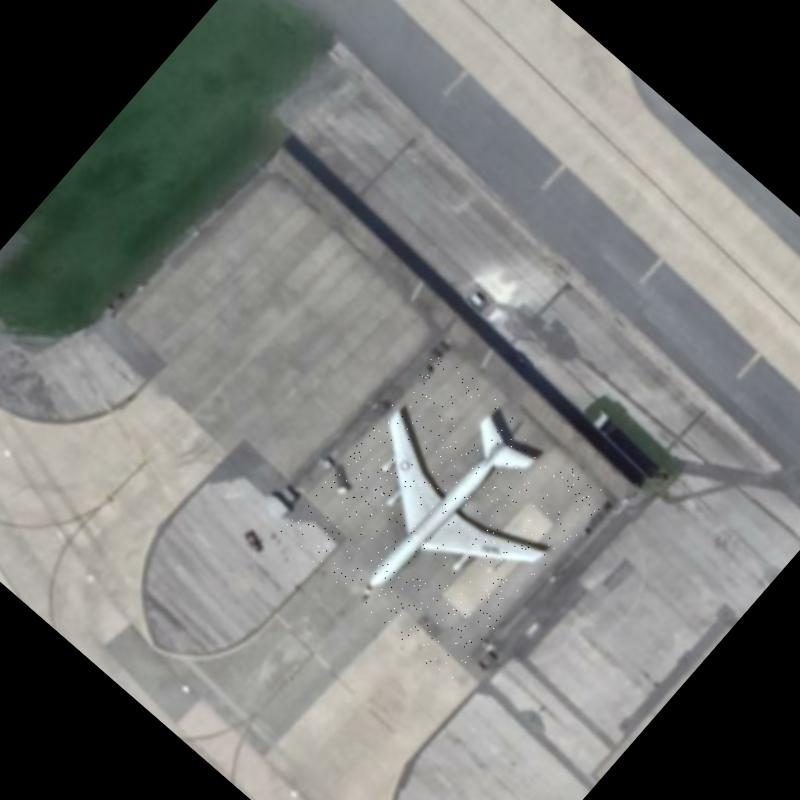A11: (277, 349, 610, 683)
